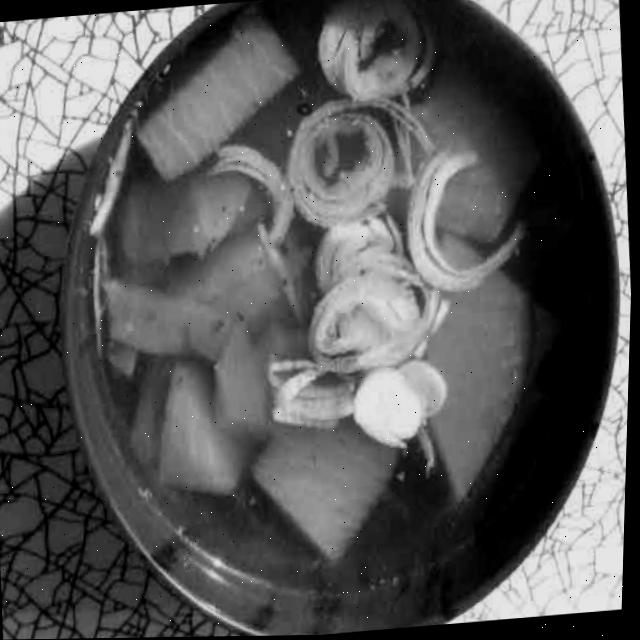蔬菜料理: (12, 0, 589, 640)
